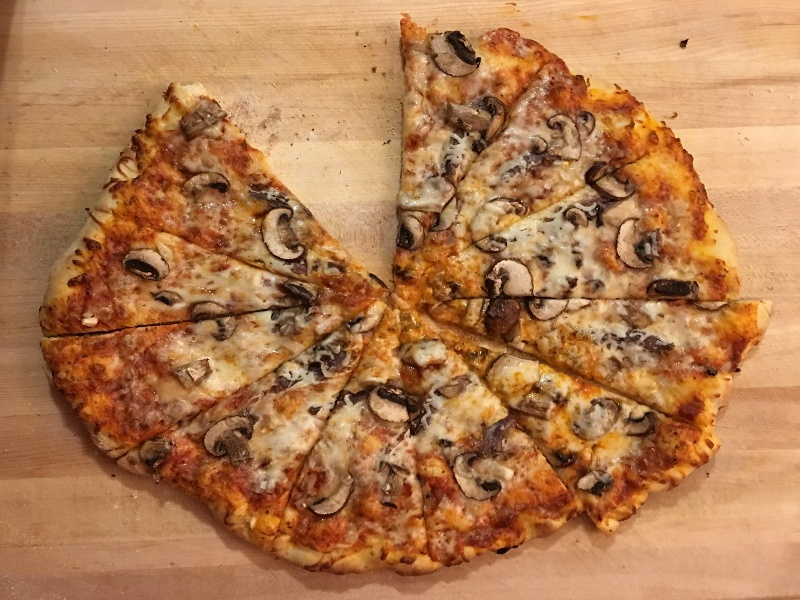champignon: (200, 408, 267, 469), (612, 213, 672, 273), (447, 444, 508, 503), (441, 96, 516, 142), (259, 204, 309, 263)
